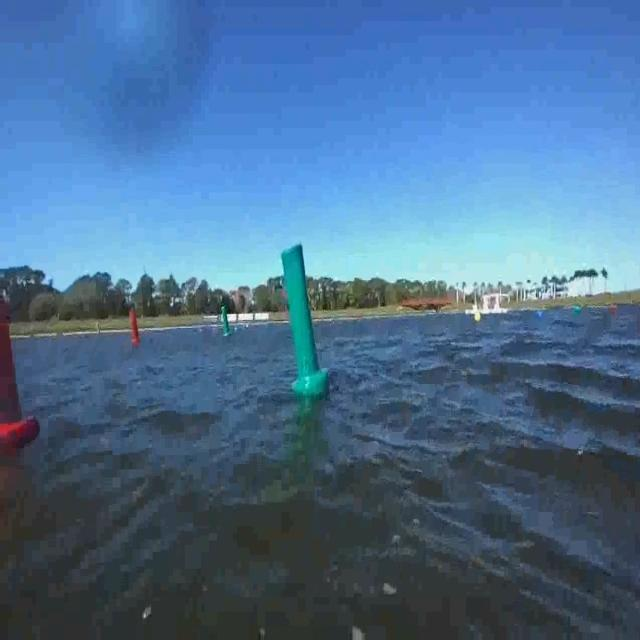green-column-buoy: (280, 242, 328, 398), (218, 302, 233, 338)
red-column-buoy: (0, 290, 39, 440), (130, 312, 142, 347)
